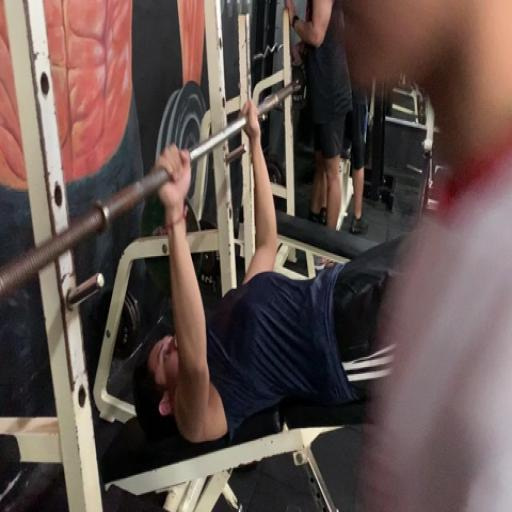exercise: (129, 97, 411, 449)
